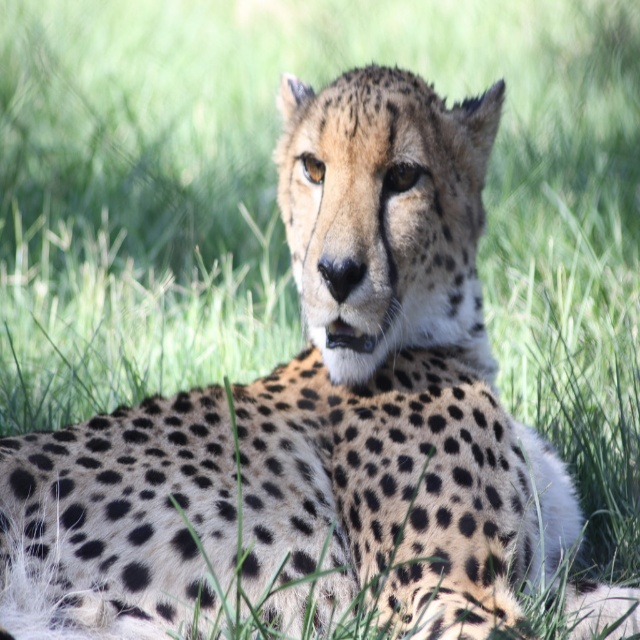Cheetah: (0, 60, 586, 639)
